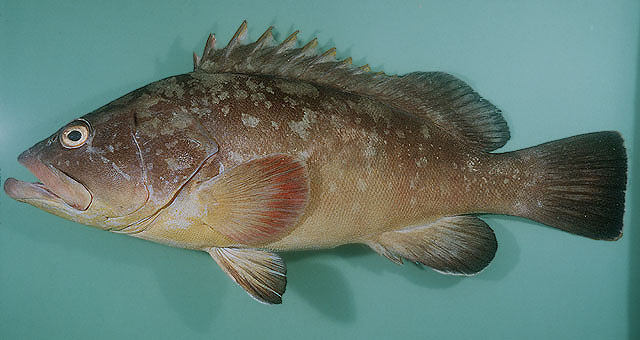fish: (3, 19, 629, 306)
